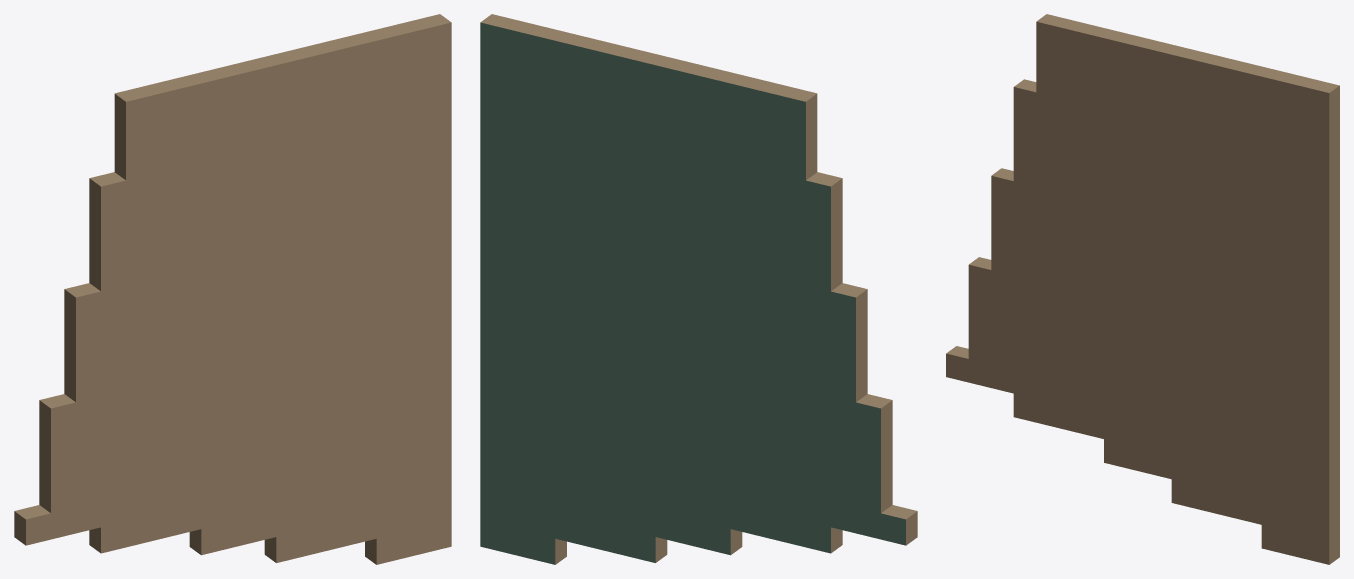
Rendered from SM_BarrierSign_3.fbx.
3 views of the same model, side by side, from view 1: azimuth 30°, elevation 25°; view 2: azimuth 150°, elevation 25°; view 3: azimuth 330°, elevation 25° (orthographic). The views are drawn at different scales.
Parts seen in each view (by area): view 1: SM_BarrierSign_3; view 2: SM_BarrierSign_3; view 3: SM_BarrierSign_3.
Part boxes in pixels (left/top/right/bottom): SM_BarrierSign_3: left=14, top=14, right=451, bottom=564; SM_BarrierSign_3: left=480, top=14, right=917, bottom=564; SM_BarrierSign_3: left=946, top=14, right=1339, bottom=564.
Size of the model in its own units: 42.5 by 2 by 50.
